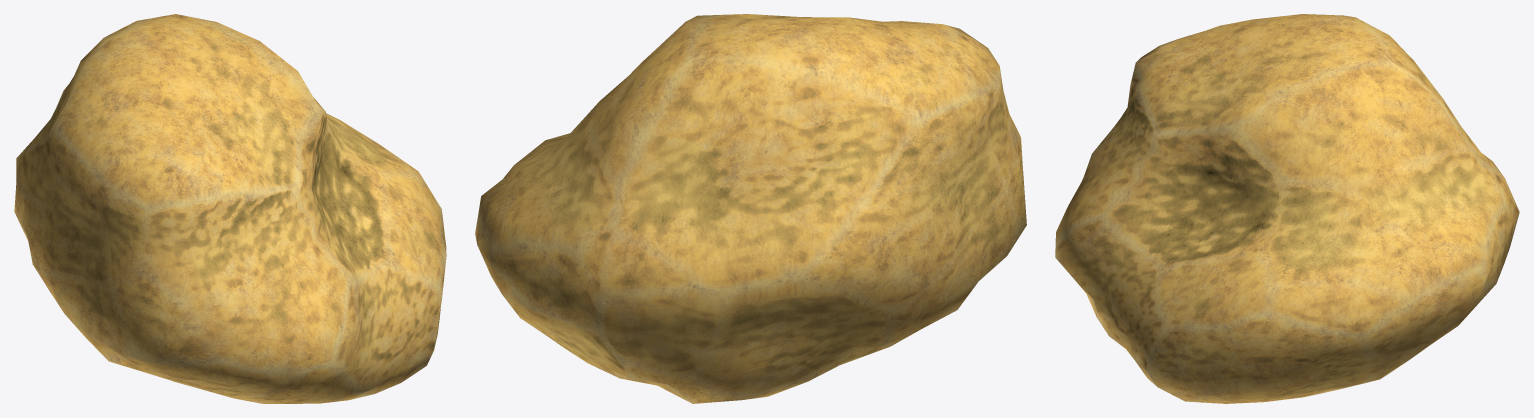
File: gold_nugget.glb
The picture shows the model from 3 angles, left to right: view 1: azimuth 30°, elevation 25°; view 2: azimuth 150°, elevation 25°; view 3: azimuth 270°, elevation 25°; orthographic projection. The views are drawn at different scales.
Visible parts, largest first — view 1: GoldNugget; view 2: GoldNugget; view 3: GoldNugget.
Part boxes in pixels (x1,y1,x2,y2): GoldNugget: (14,14,446,403); GoldNugget: (475,14,1026,403); GoldNugget: (1055,14,1519,403).
Bounding box in the file's own units: 0.1195 × 0.0984 × 0.1378.
1 material, 1 textured.
